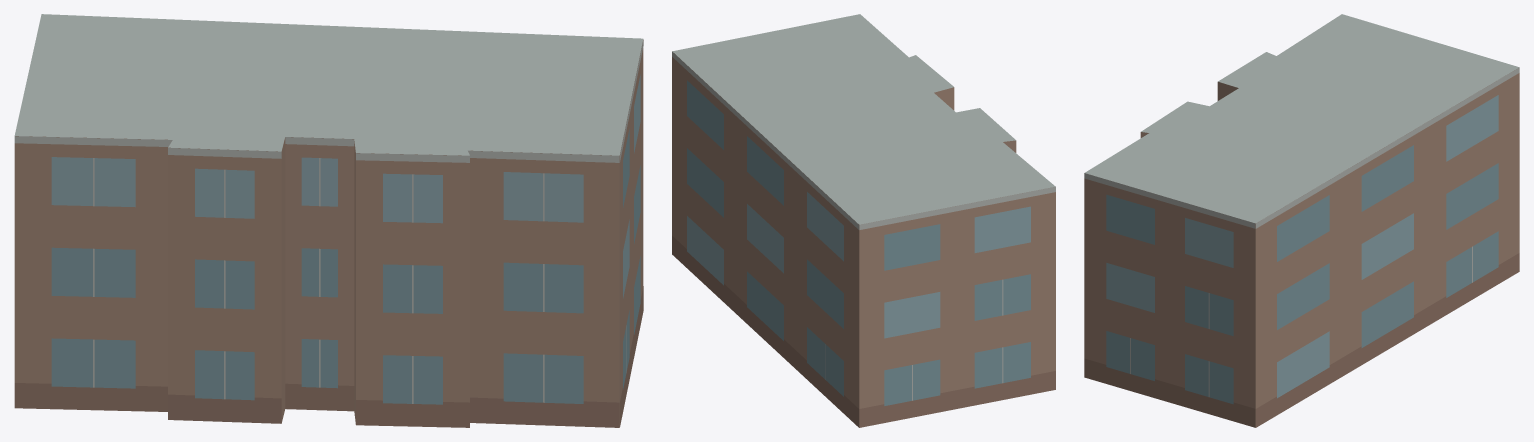
File: survey-upis-32823284.glb
3 renders of one model, left to right at view 1: azimuth 30°, elevation 25°; view 2: azimuth 150°, elevation 25°; view 3: azimuth 270°, elevation 25°, orthographic. The views are drawn at different scales.
Parts seen in each view (by area): view 1: survey-upis-32823284.tmp; view 2: survey-upis-32823284.tmp; view 3: survey-upis-32823284.tmp.
Boxes of the visible parts, <box> form: survey-upis-32823284.tmp: <box>14,14,643,427</box>; survey-upis-32823284.tmp: <box>672,14,1055,427</box>; survey-upis-32823284.tmp: <box>1084,14,1519,427</box>.
Bounding box in the file's own units: 20.12 × 9.15 × 17.66.
